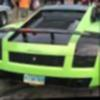License_Plate: (24, 74, 44, 84)
